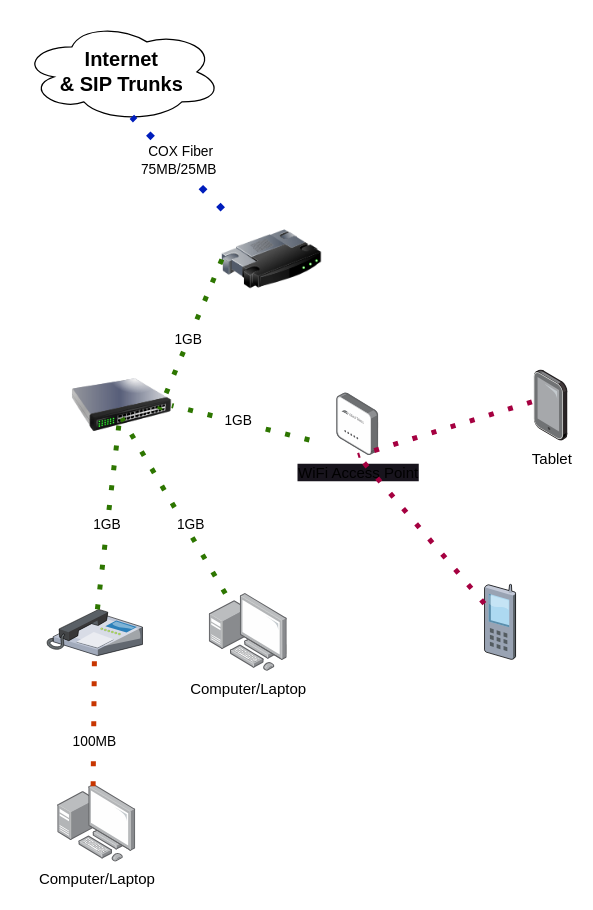
This 593x910 diagram has some shape labels left out. The centre of each missing label's shape, as x and y in pixels:
Cell Phone: the point at 499,621
Network Switch: the point at 121,405
Phone: the point at 94,632
